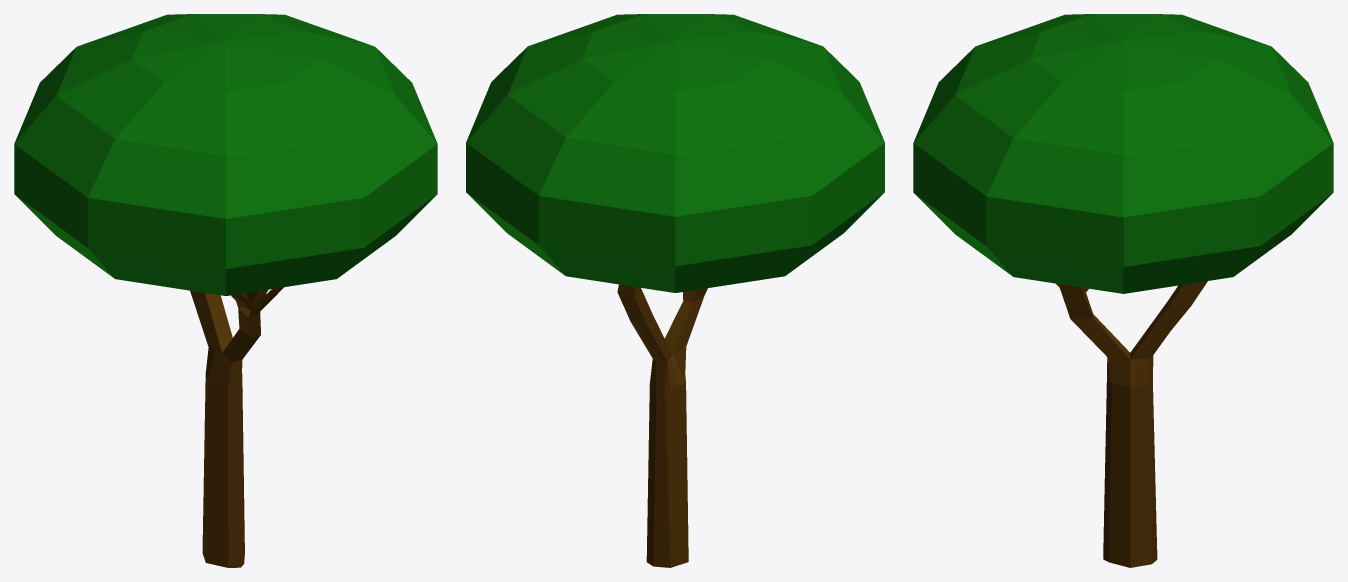
Rendered from tree1.fbx.
3 views of the same model, side by side, from view 1: azimuth 30°, elevation 25°; view 2: azimuth 150°, elevation 25°; view 3: azimuth 270°, elevation 25° (orthographic).
Visible parts, largest first — view 1: polySurface2; view 2: polySurface2; view 3: polySurface2.
Part boxes in pixels (x1,y1,x2,y2): polySurface2: [14, 14, 437, 567]; polySurface2: [466, 14, 884, 567]; polySurface2: [913, 14, 1333, 567].
Bounding box in the file's own units: 15.51 × 21.35 × 15.75.
